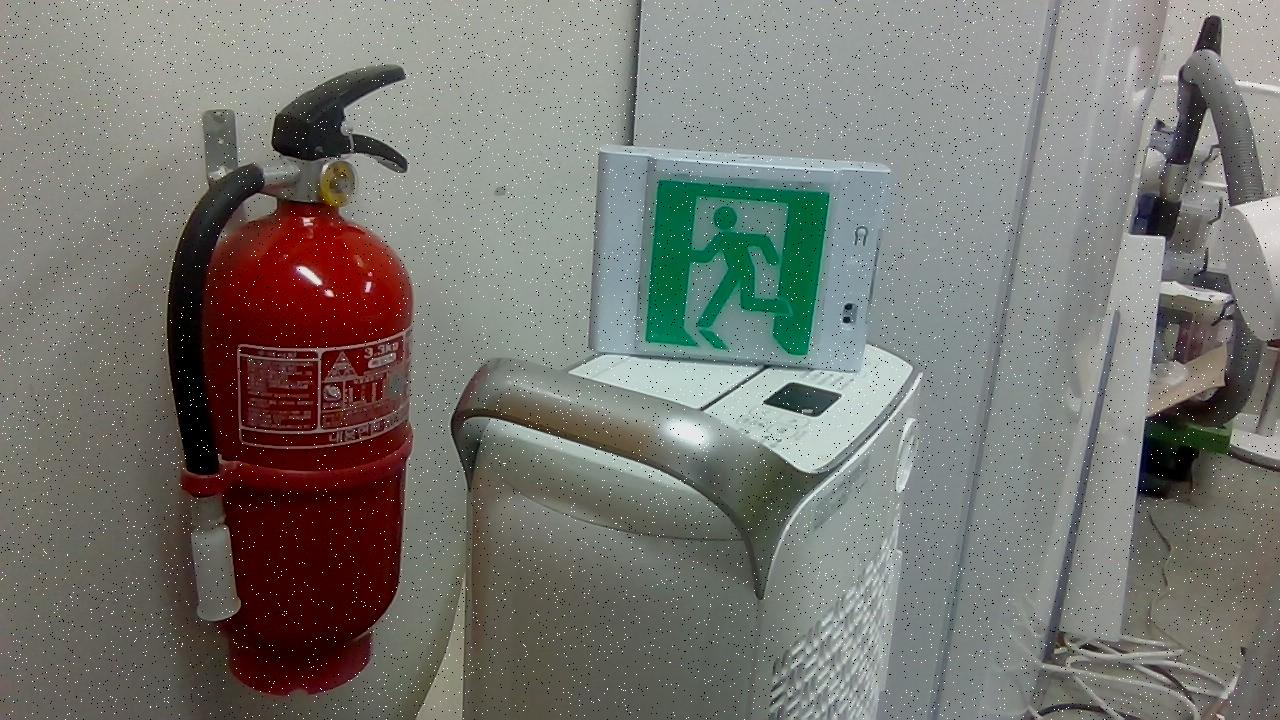emergency_exit: (587, 143, 892, 374)
